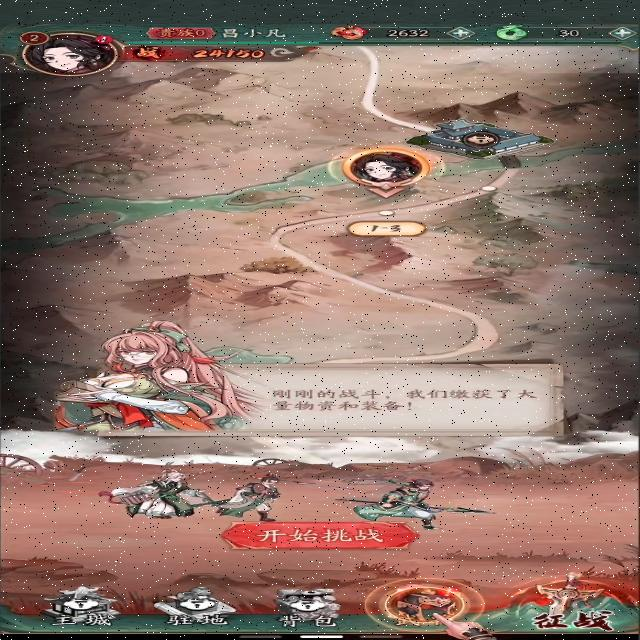hint-guide: (55, 318, 567, 440), (371, 582, 483, 632)
hint-reddot: (436, 585, 464, 601), (90, 34, 117, 44)
navigation-fight: (491, 569, 638, 632)
navigation-hero: (388, 586, 472, 628)
navigation-role: (10, 28, 132, 78)
navigation-station-off: (150, 584, 237, 628)
operation-enter: (220, 521, 419, 551)
